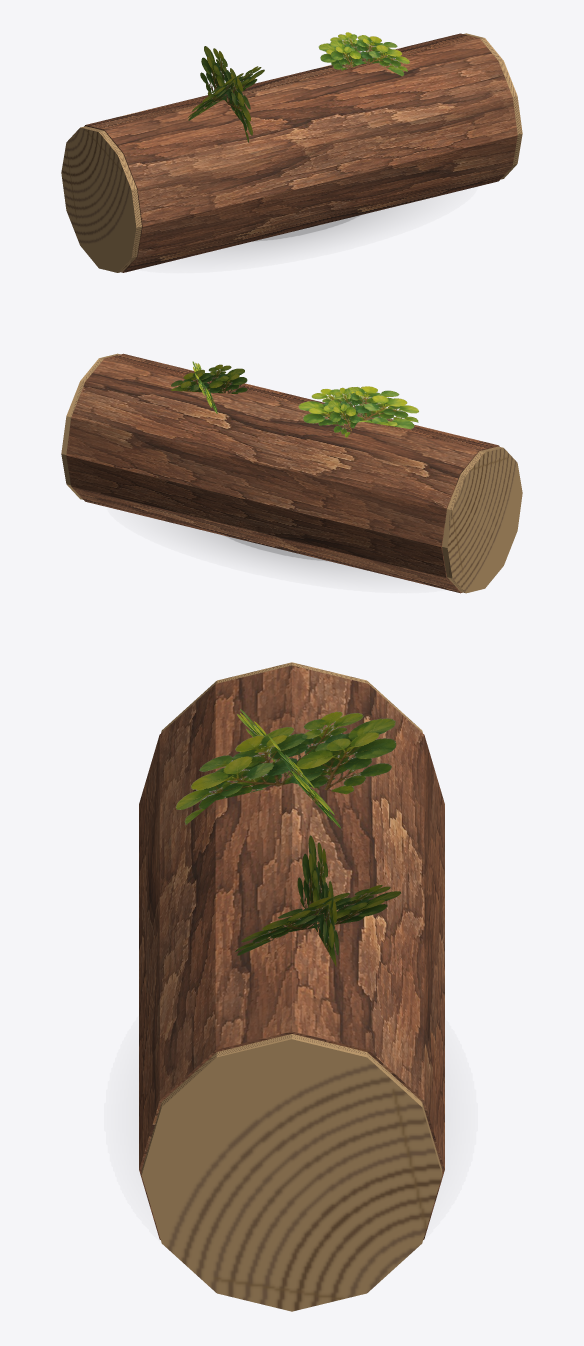
The model's file is log-fallen.glb.
The picture shows the model from 3 angles, top to bottom: view 1: azimuth 30°, elevation 25°; view 2: azimuth 150°, elevation 25°; view 3: azimuth 270°, elevation 25°; orthographic projection. The views are drawn at different scales.
Visible parts, largest first — view 1: body, end, leafcard.002, leafcard.003, ContactShadow, leafcard, leafcard.001, end.001; view 2: body, end, leafcard.001, leafcard, leafcard.002, ContactShadow, end.001; view 3: body, end.001, leafcard.002, leafcard.003, leafcard, leafcard.001, end.
Part boxes in pixels (bbox=[...]): body: bbox=[84, 33, 517, 272]; end: bbox=[61, 126, 141, 272]; leafcard.002: bbox=[200, 46, 252, 142]; leafcard.003: bbox=[318, 34, 409, 76]; ContactShadow: bbox=[230, 209, 385, 247]; leafcard: bbox=[330, 32, 389, 70]; leafcard.001: bbox=[188, 66, 264, 120]; end.001: bbox=[463, 33, 522, 179]; body: bbox=[66, 353, 499, 593]; end: bbox=[442, 446, 522, 593]; leafcard.001: bbox=[298, 386, 418, 429]; leafcard: bbox=[170, 364, 247, 393]; leafcard.002: bbox=[328, 386, 386, 437]; ContactShadow: bbox=[200, 530, 351, 567]; end.001: bbox=[61, 353, 120, 499]; body: bbox=[139, 665, 444, 1239]; end.001: bbox=[141, 1034, 442, 1311]; leafcard.002: bbox=[175, 711, 396, 824]; leafcard.003: bbox=[235, 885, 401, 955]; leafcard: bbox=[297, 835, 338, 966]; leafcard.001: bbox=[237, 709, 341, 828]; end: bbox=[161, 662, 422, 732].
Size of the model in its own units: 2 by 0.872 by 0.9.
4 materials, 4 textured.
